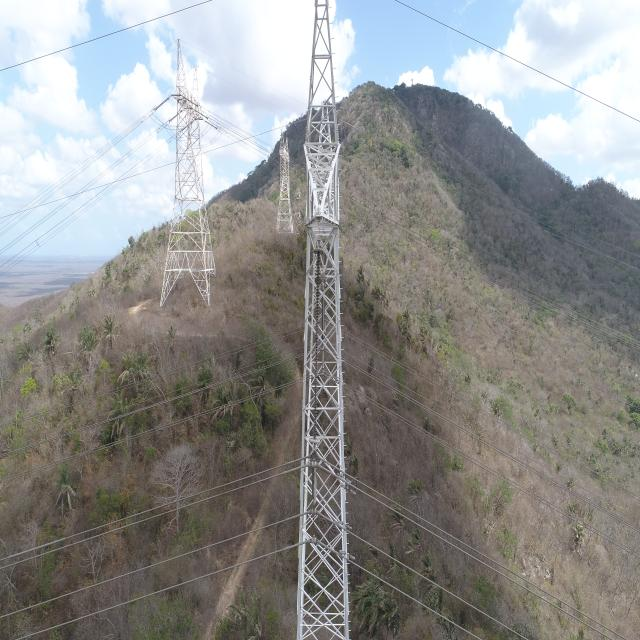杆塔: (289, 4, 363, 640), (156, 39, 224, 310)
正常电缆: (10, 513, 273, 623), (391, 498, 594, 631), (15, 542, 279, 636), (381, 546, 530, 640), (380, 575, 472, 640)
正常绝缘子: (310, 248, 324, 449), (155, 96, 170, 110), (170, 109, 183, 122)
